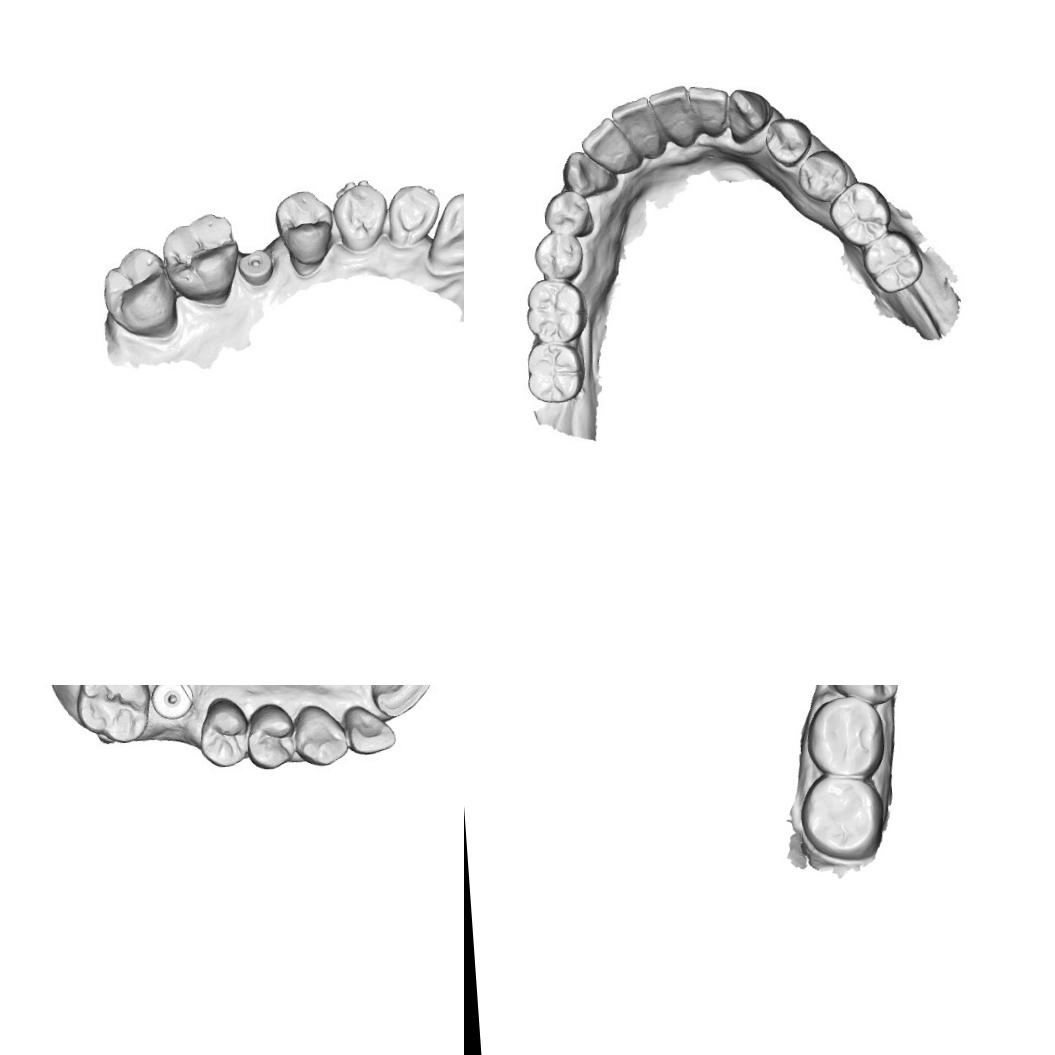canine: (329, 180, 389, 255), (291, 700, 350, 768), (557, 146, 620, 198), (721, 82, 773, 144)
implant: (234, 246, 276, 285), (148, 685, 193, 720)
incisor: (382, 180, 444, 250), (606, 90, 662, 162), (421, 187, 464, 270), (577, 116, 636, 175), (340, 700, 396, 756), (648, 81, 696, 146), (687, 80, 731, 140), (367, 685, 434, 719)
molar: (159, 209, 243, 310), (796, 771, 886, 861), (98, 244, 180, 342), (800, 692, 887, 782), (68, 685, 158, 746), (825, 178, 895, 250), (860, 228, 927, 296), (522, 276, 588, 345), (520, 338, 586, 405)
premolar: (270, 186, 336, 268), (192, 694, 254, 771), (242, 700, 296, 772), (538, 188, 600, 242), (795, 146, 852, 202), (531, 226, 587, 282), (759, 113, 811, 168), (825, 685, 904, 708)
